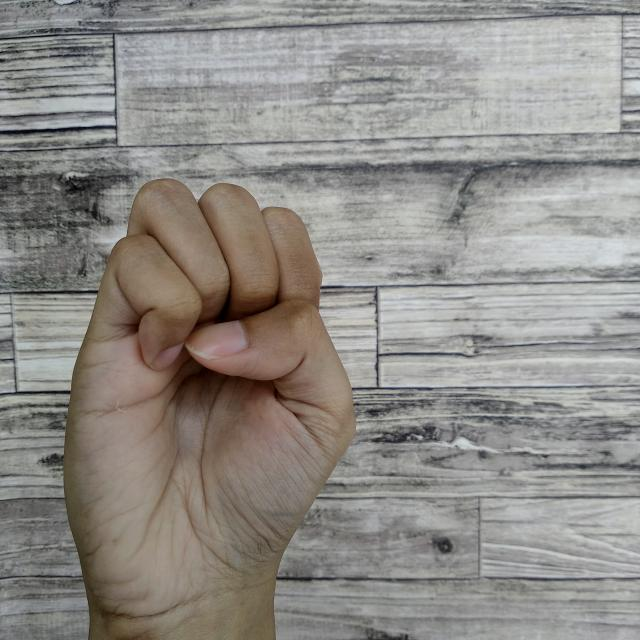E: (56, 176, 358, 640)
